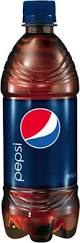pepsi: (20, 108, 63, 149), (12, 140, 26, 181)
